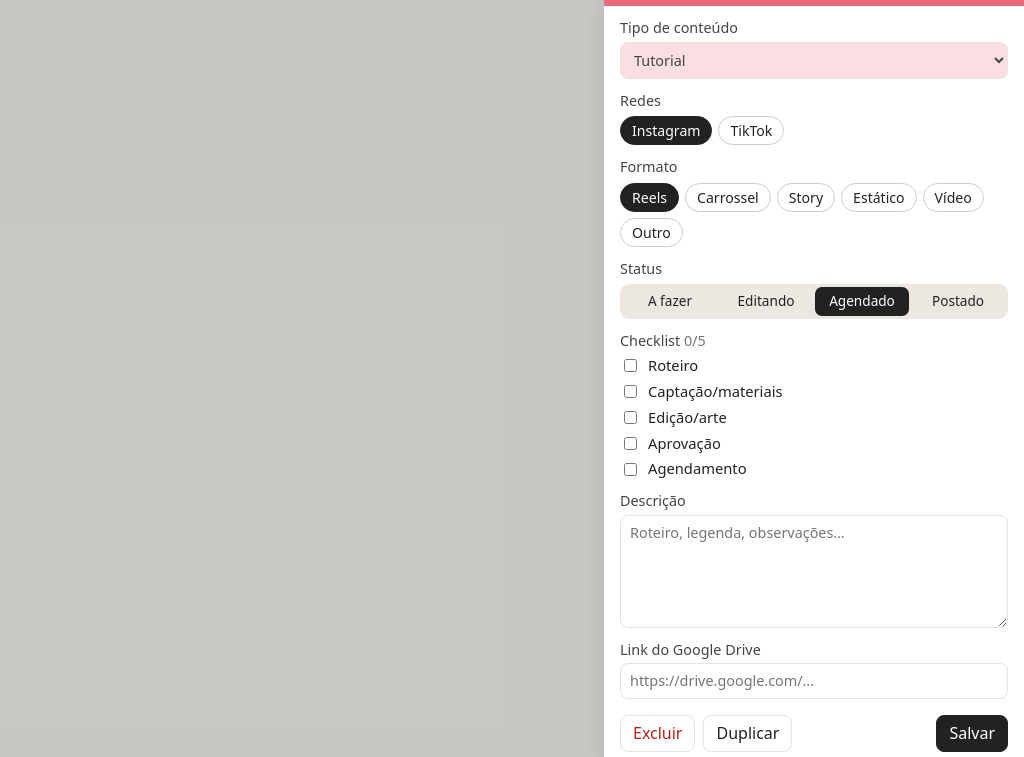
Test: PostPanel › shows the backend 422 detail
The image size is (1024, 757).
(page scrolled)
In the field labelled "Link do Google Drive": (814, 681) [620,663,1008,699], type "drive.google.com/x"
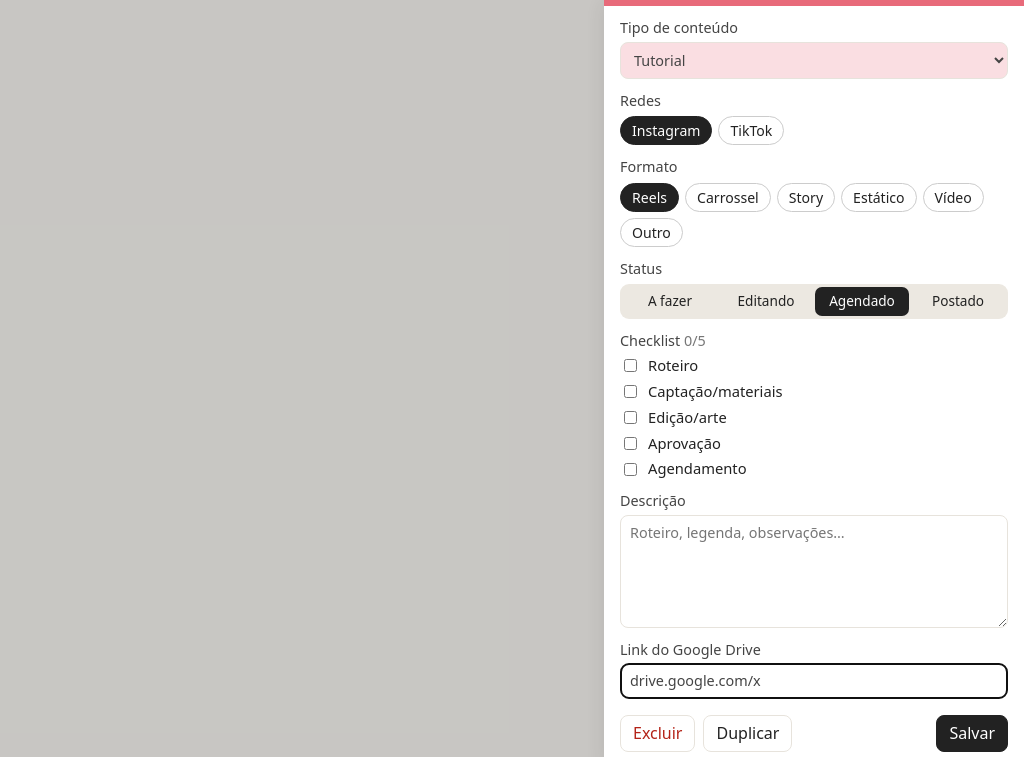
Click the button "Salvar": (972, 734) [936,715,1008,752]
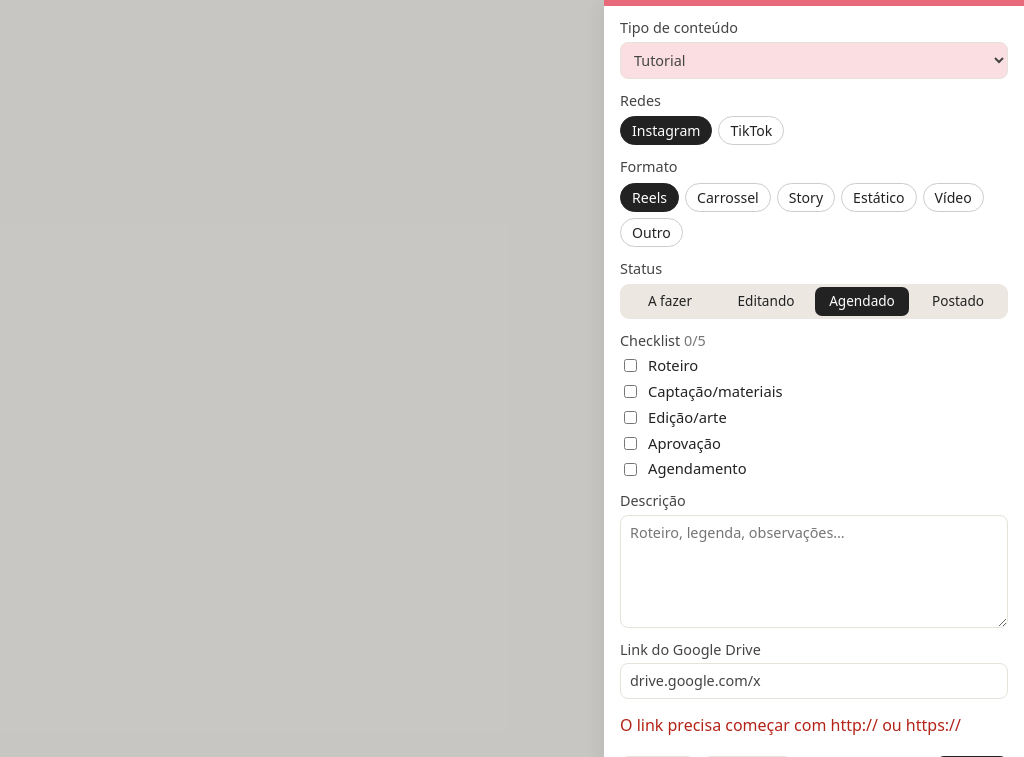
Expected: the text "O link precisa começar com http:// ou https://" is shown, [620,715,1008,736]
